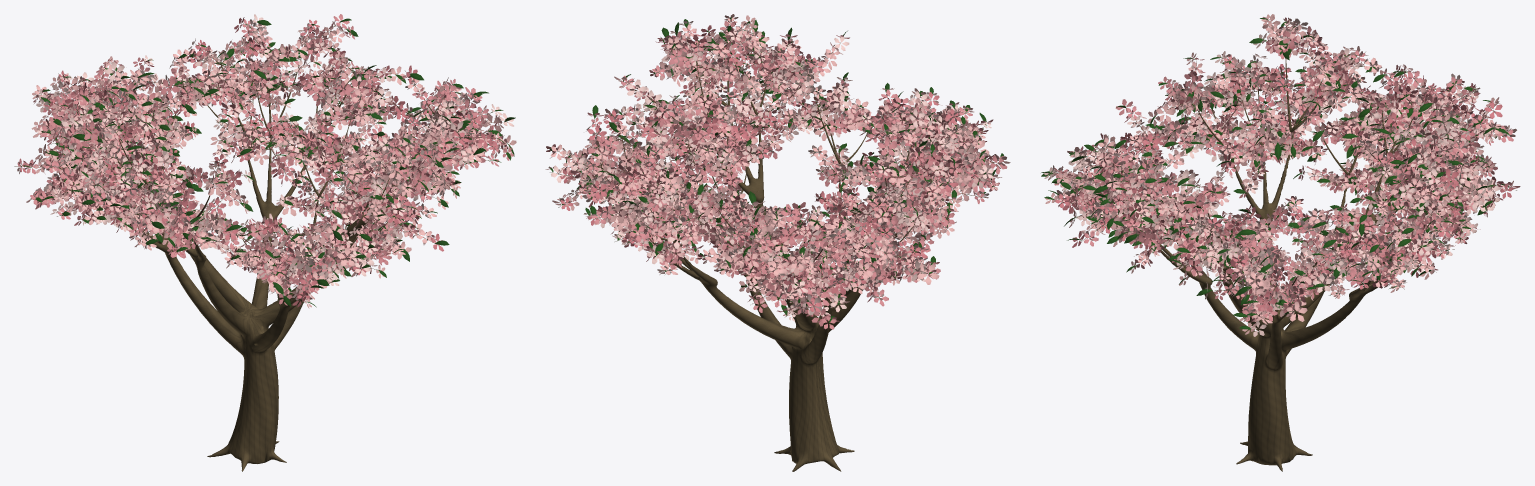
File: Mature.glb
3 renders of one model, left to right at view 1: azimuth 30°, elevation 25°; view 2: azimuth 150°, elevation 25°; view 3: azimuth 270°, elevation 25°, orthographic.
Visible parts, largest first — view 1: Mature_individual_five_petal_blossoms.004, Mature_trunk.005, Mature_young_leaves.004, Mature_branches.005; view 2: Mature_individual_five_petal_blossoms.004, Mature_trunk.005, Mature_young_leaves.004, Mature_branches.005; view 3: Mature_individual_five_petal_blossoms.004, Mature_young_leaves.004, Mature_trunk.005, Mature_branches.005.
Boxes of the visible parts, left/top/right/bottom form: Mature_individual_five_petal_blossoms.004: left=17, top=14, right=516, bottom=308; Mature_trunk.005: left=132, top=125, right=394, bottom=471; Mature_young_leaves.004: left=21, top=18, right=515, bottom=307; Mature_branches.005: left=14, top=19, right=510, bottom=302; Mature_individual_five_petal_blossoms.004: left=545, top=14, right=1010, bottom=329; Mature_trunk.005: left=649, top=101, right=897, bottom=471; Mature_young_leaves.004: left=549, top=17, right=1003, bottom=322; Mature_branches.005: left=550, top=19, right=998, bottom=324; Mature_individual_five_petal_blossoms.004: left=1044, top=14, right=1520, bottom=336; Mature_young_leaves.004: left=1041, top=18, right=1509, bottom=329; Mature_trunk.005: left=1151, top=125, right=1400, bottom=471; Mature_branches.005: left=1049, top=22, right=1516, bottom=332.
Size of the model in its own units: 8.55 by 8.24 by 9.4.
Materials: 3 (3 with a texture image).
